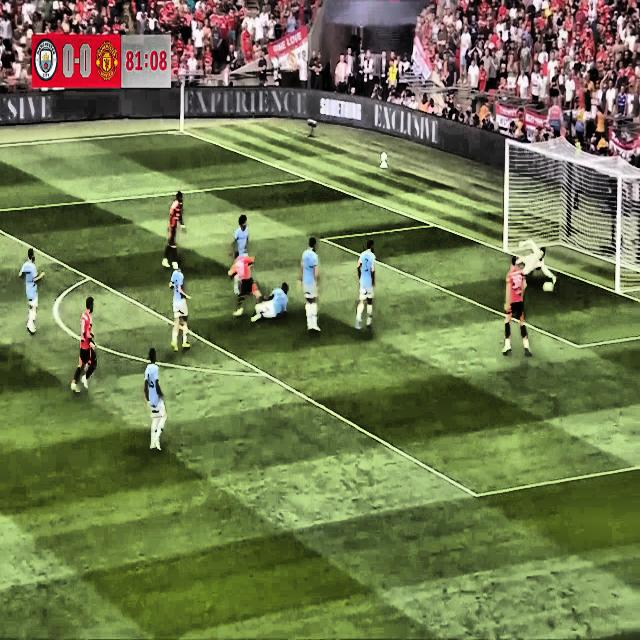ball: (540, 274, 555, 304)
goal_keeper: (504, 237, 561, 290)
players: (136, 341, 170, 462), (500, 258, 533, 366), (296, 233, 329, 337), (228, 244, 270, 322), (20, 238, 50, 345), (68, 294, 98, 400), (164, 253, 195, 355), (232, 202, 262, 307), (351, 238, 381, 342), (160, 173, 189, 275), (251, 273, 293, 325)
